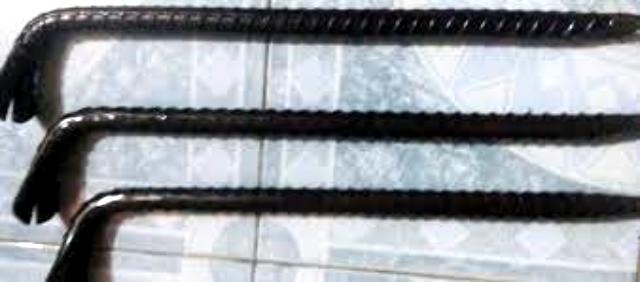crow bar: (12, 99, 640, 226), (0, 10, 636, 123), (44, 182, 639, 282)
